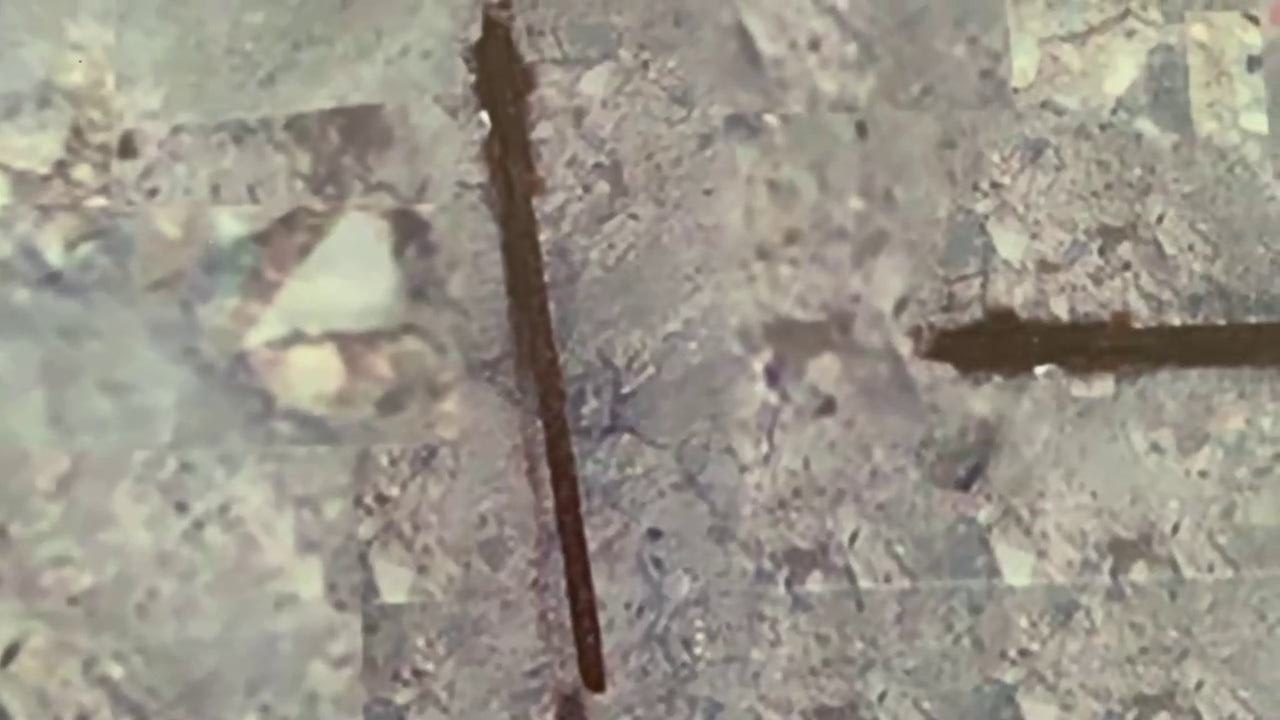Exposed reinforcement: (472, 1, 607, 696), (915, 307, 1280, 381)
